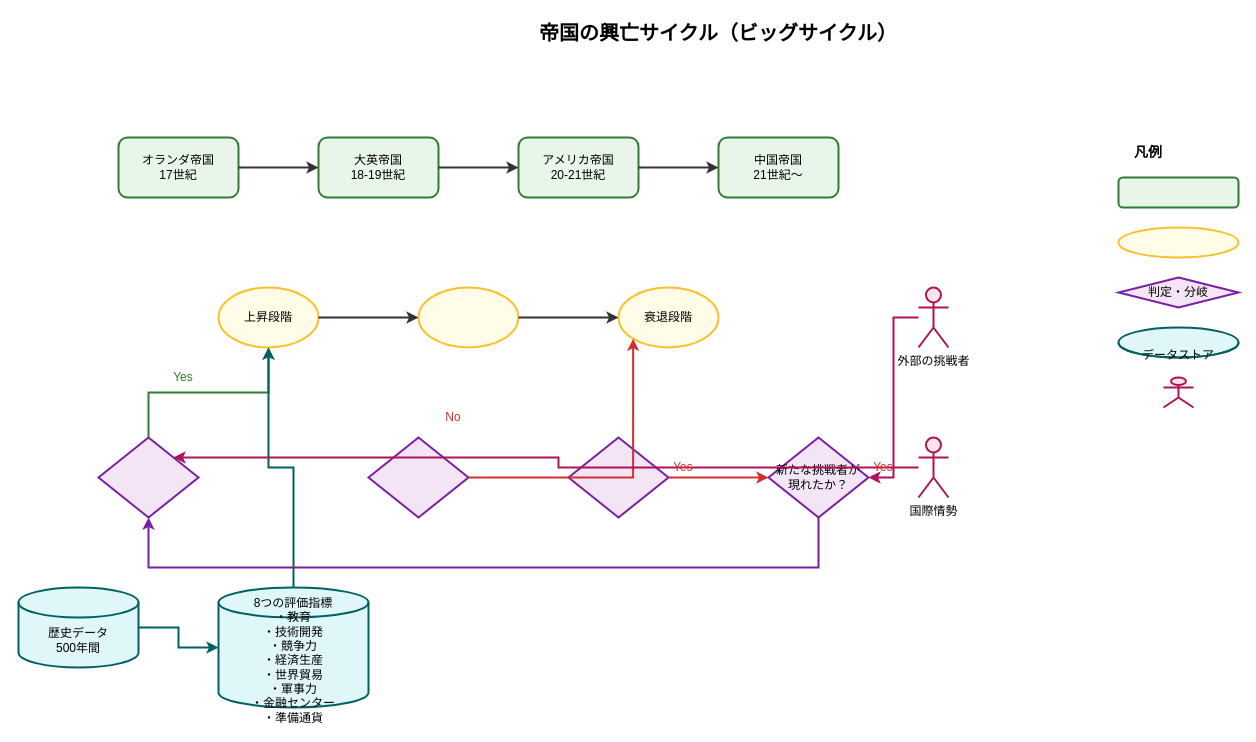
Some shapes in this 1256 by 742 pixel diagram are drawn without their labels. The shapes that lost their labels are listed below. From the top down, each one's box as (x1, y1, x2, y2) in pixels, then its label:
(1117, 176, 1239, 208): 帝国・エンティティ
(1117, 226, 1239, 258): プロセス・段階
(417, 286, 519, 348): ピーク段階
(1162, 376, 1194, 408): 外部システム
(97, 436, 199, 518): 戦争に 勝利したか？
(367, 436, 469, 518): 財政は 健全か？
(567, 436, 669, 518): 内部紛争は 激化したか？
